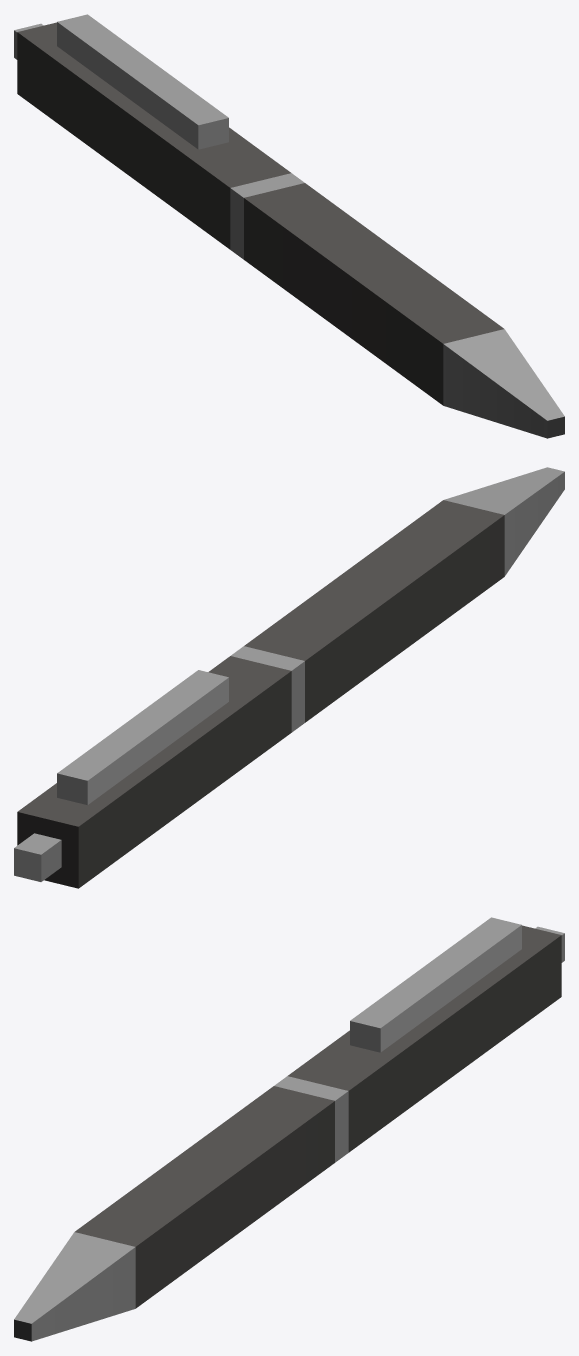
Rendered from SO_Pen_01.fbx.
3 views of the same model, one above another, from view 1: azimuth 30°, elevation 25°; view 2: azimuth 150°, elevation 25°; view 3: azimuth 330°, elevation 25° (orthographic).
Visible parts, largest first — view 1: SO_Pen_01; view 2: SO_Pen_01; view 3: SO_Pen_01.
Part boxes in pixels (box(x1,y1,x2,y2)): SO_Pen_01: box(14, 14, 564, 438); SO_Pen_01: box(14, 467, 564, 888); SO_Pen_01: box(14, 917, 564, 1341).
Bounding box in the file's own units: 0.0321 × 0.0431 × 0.4792.
